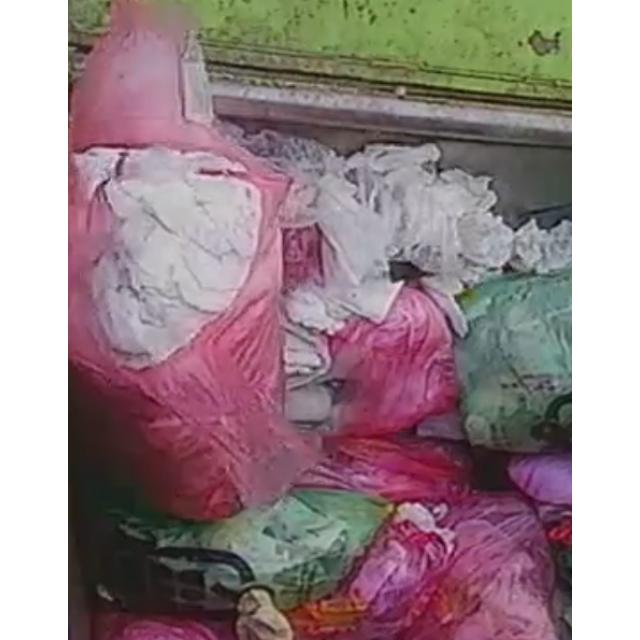general_trashbag: (94, 490, 394, 611), (458, 270, 572, 452)
other_trashbag: (70, 1, 310, 518), (398, 495, 558, 639), (289, 502, 454, 640), (329, 286, 457, 436)
